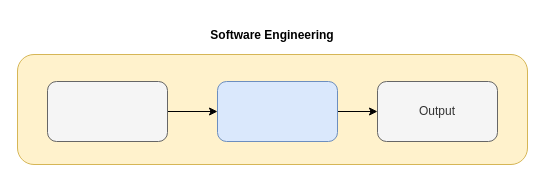
The diagram is 545 pixels wide and 182 high, and some of its shapes have lost their labels. The centre of each missing label's shape, as x and y in pixels:
Input: pixel 107 111
Programable unit (hand-crafted model): pixel 277 111
